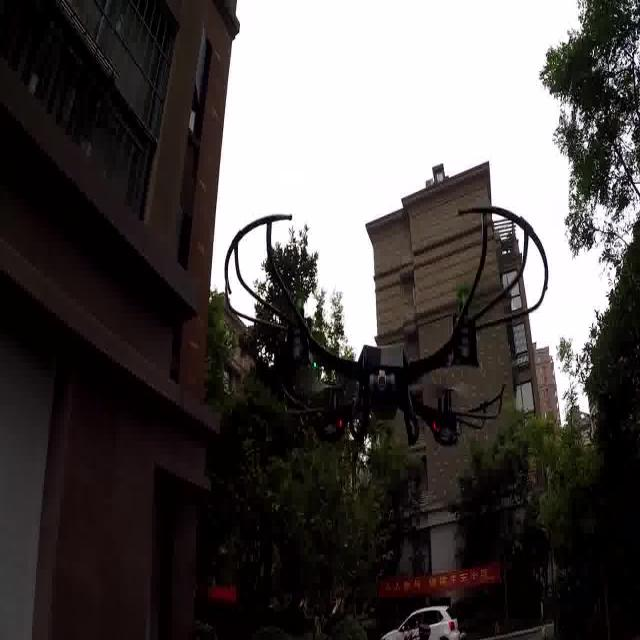drones: (220, 194, 554, 458)
